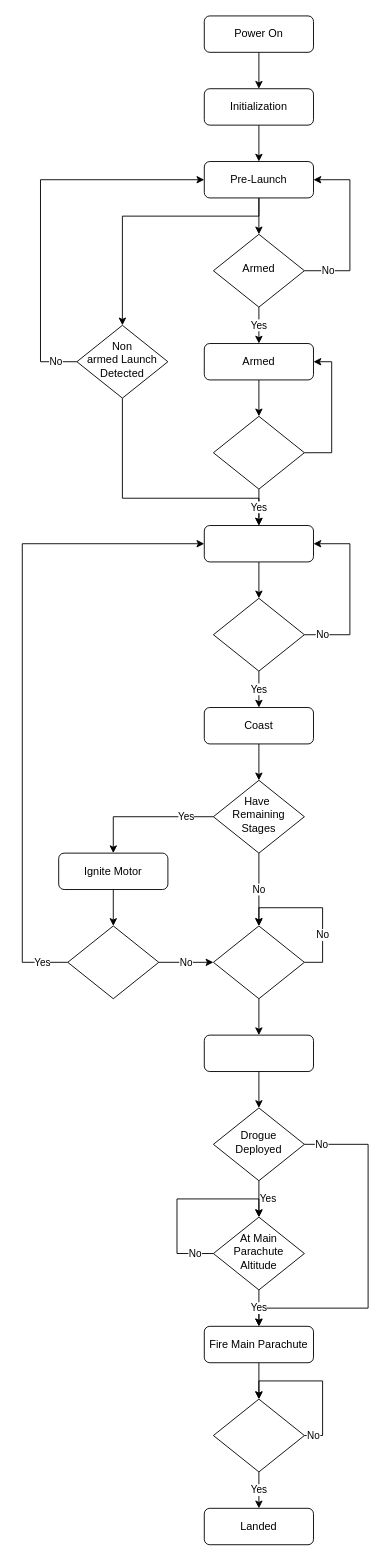
The diagram is 391 pixels wide and 1561 high, and some of its shapes have lost their labels. Here are the shapes that lost their labels. From the top down, the box of each, then its label:
(212, 415, 304, 489): Launch Detected
(203, 525, 313, 562): Flight
(212, 597, 304, 671): Burnout Detected
(67, 925, 159, 999): Motor light
(212, 925, 304, 999): Apogee Detect
(203, 1034, 313, 1072): Drogue Deployment
(212, 1398, 304, 1472): Detected Landing
